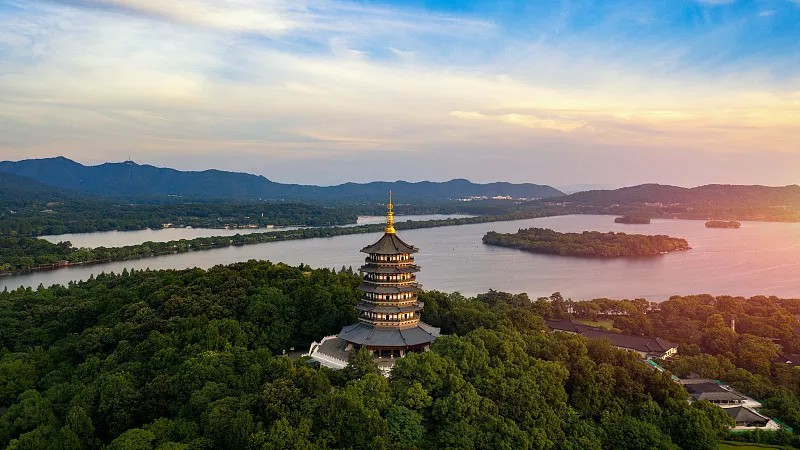Leifeng: (338, 189, 439, 367)
